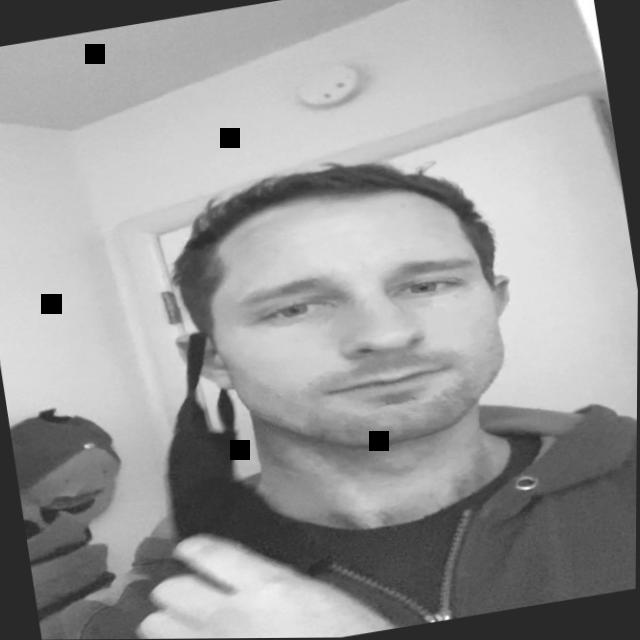NO-Mask: (154, 144, 549, 507)
